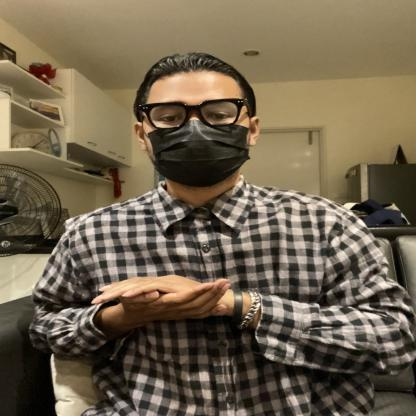Love: (60, 253, 308, 341)
